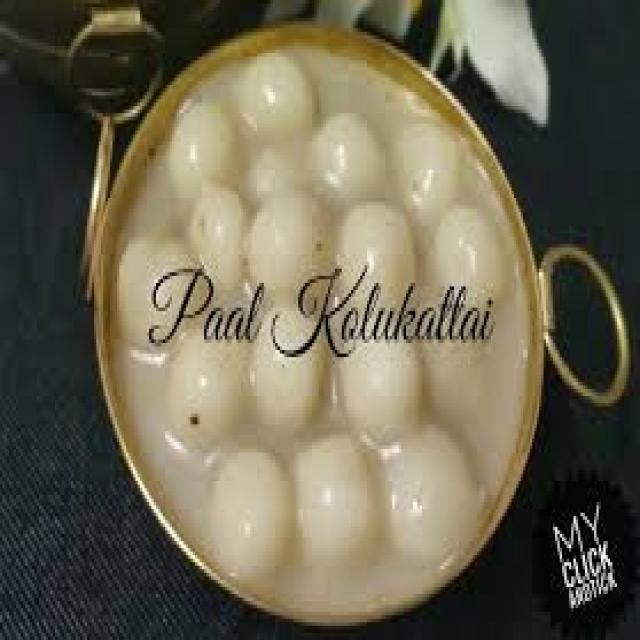paal kolukattai: (117, 58, 519, 586)
